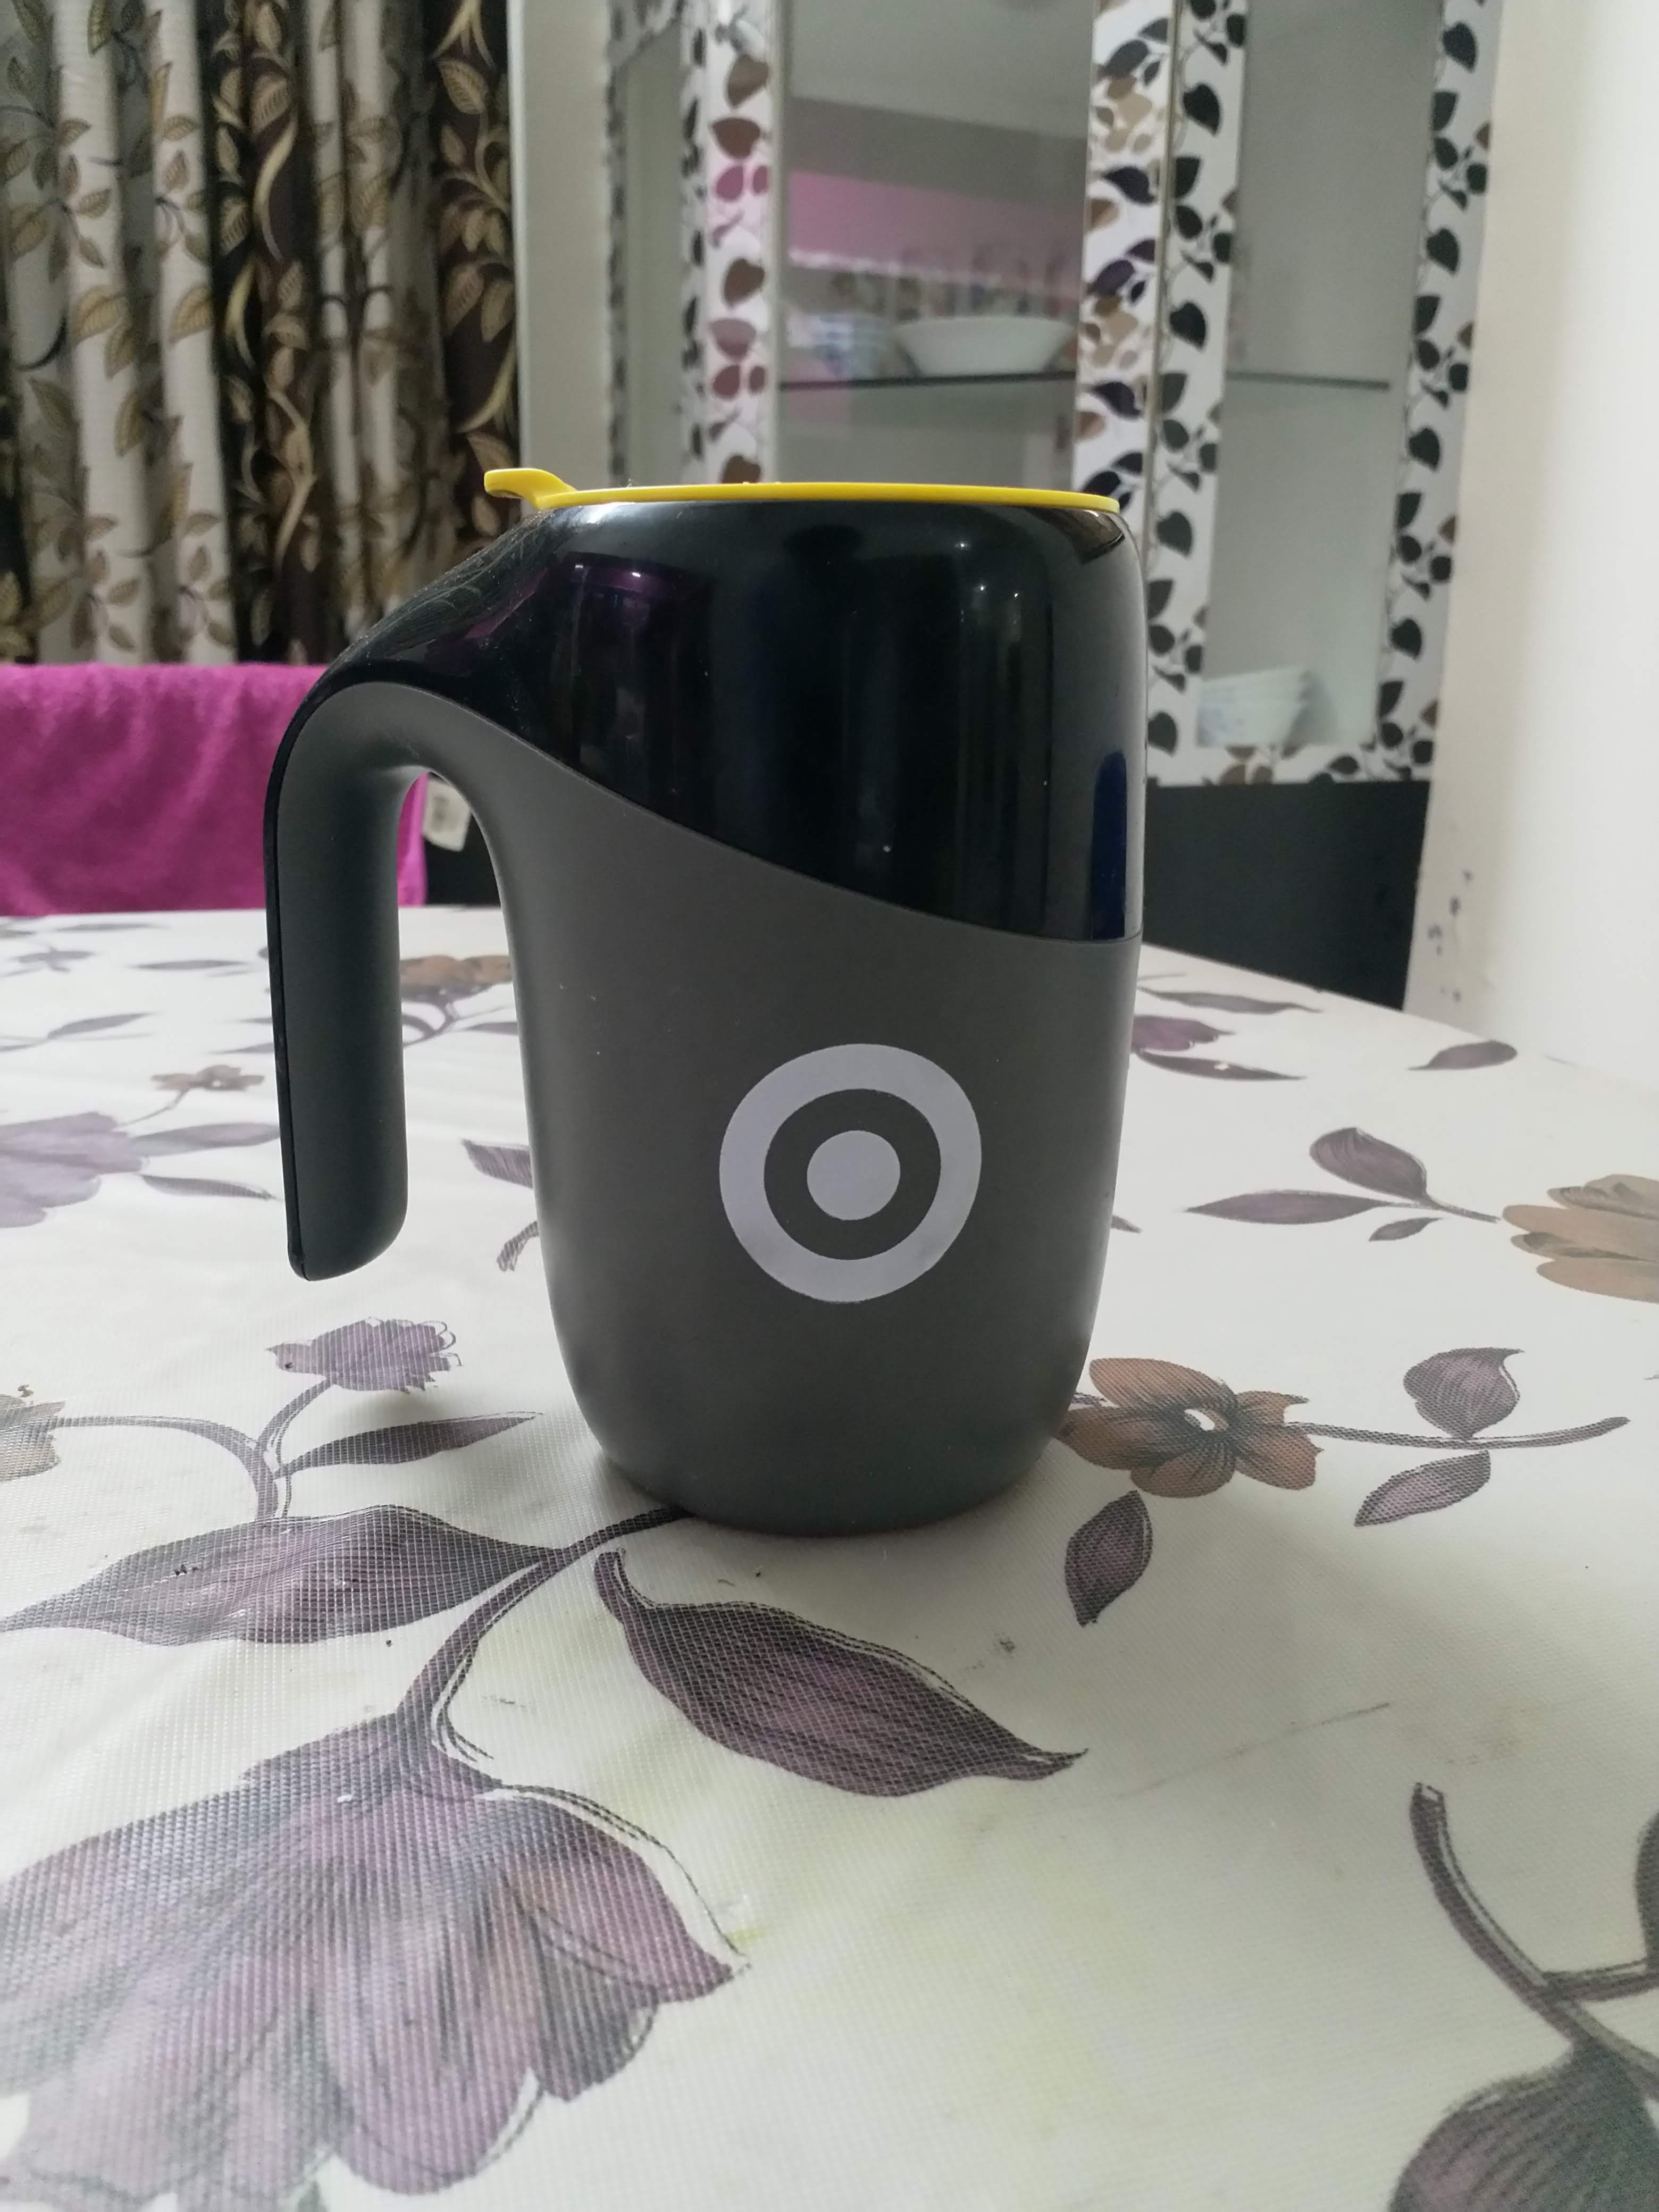bullseye: (694, 996, 1016, 1336)
